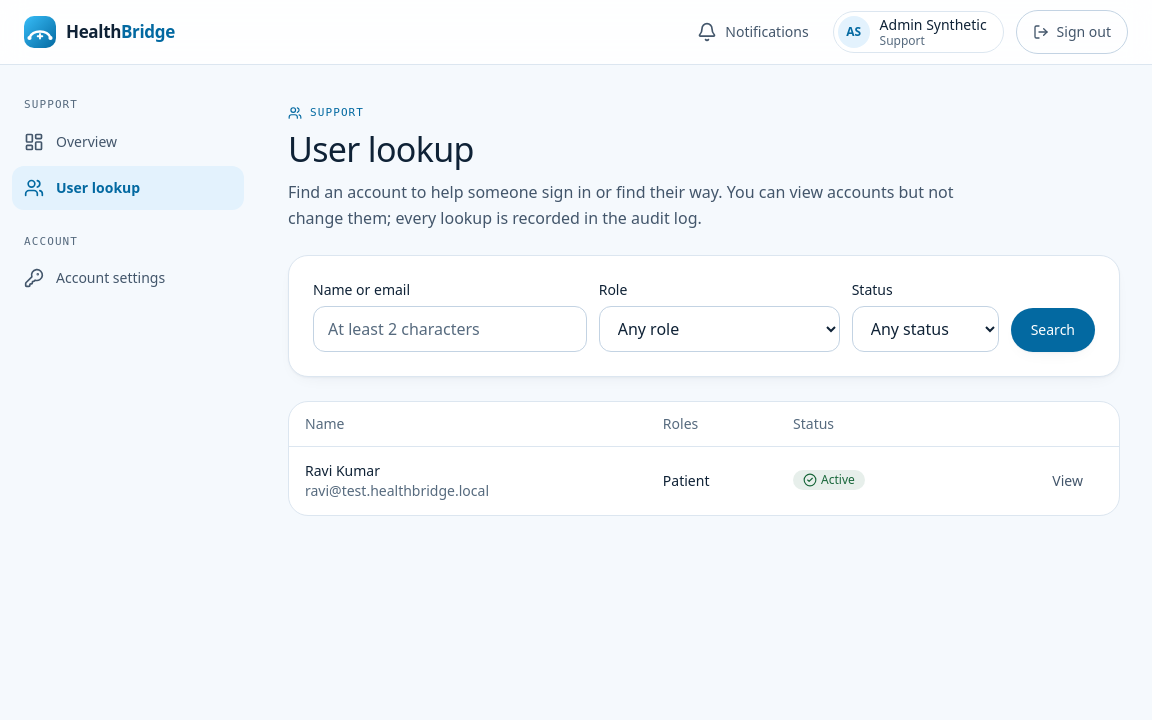
Test case: user administration › support can look accounts up but sees no account actions or audit log
Click the button "View". click: (1068, 481)
box: [1032,459,1103,503]
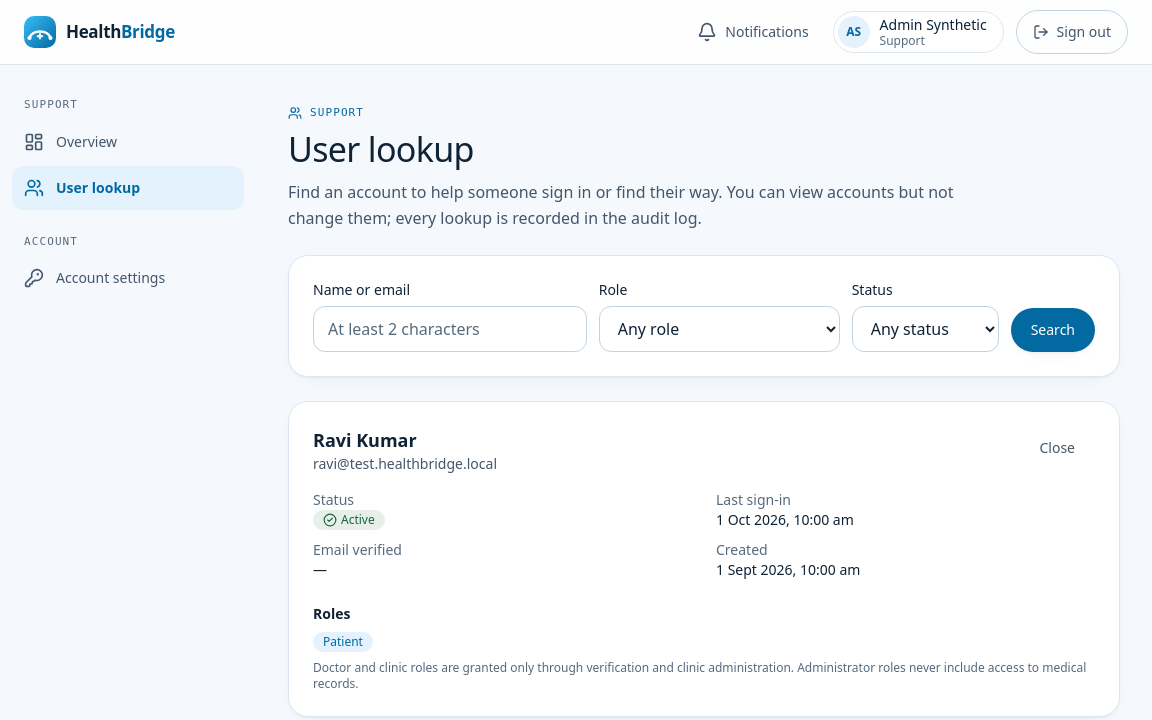
Result: the heading "Ravi Kumar" is shown at [313,428,417,452]
